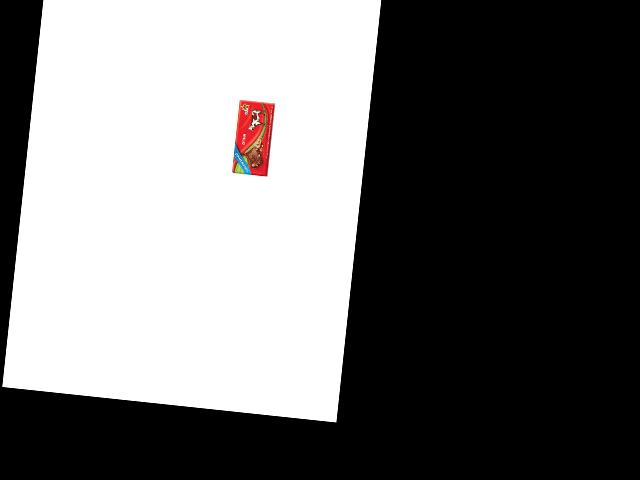chocolate: (231, 96, 274, 175)
